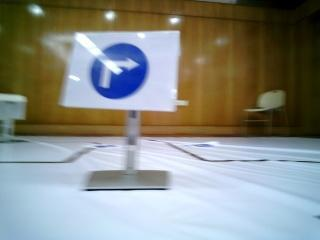right: (77, 31, 175, 105)
